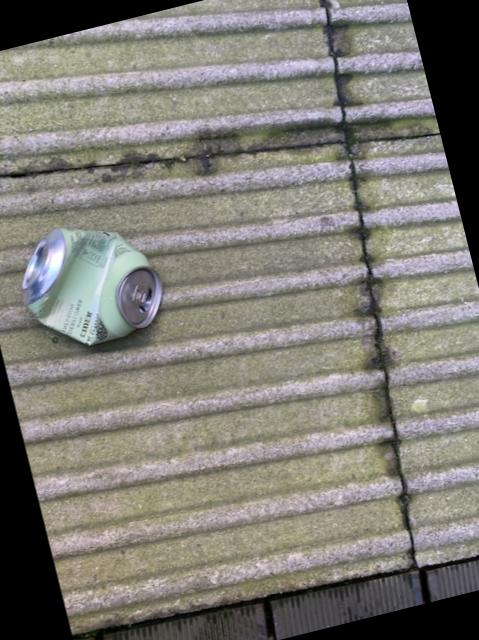metal: (22, 226, 161, 343)
